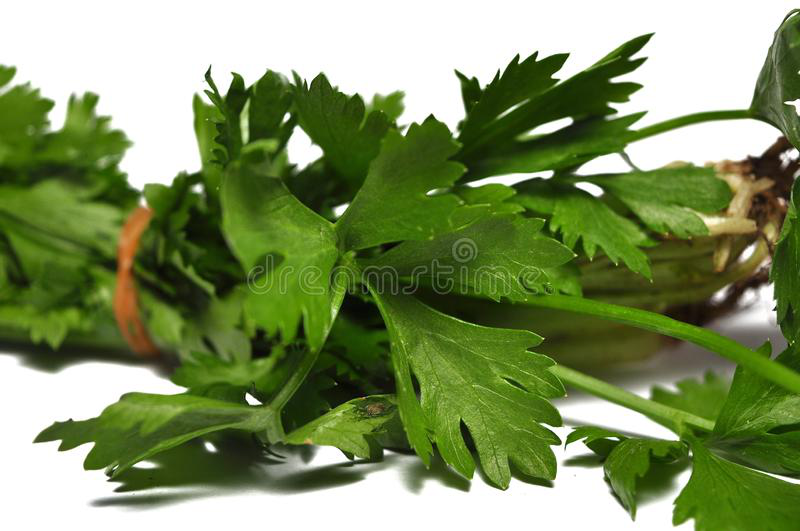Seledri: (143, 144, 760, 500)
